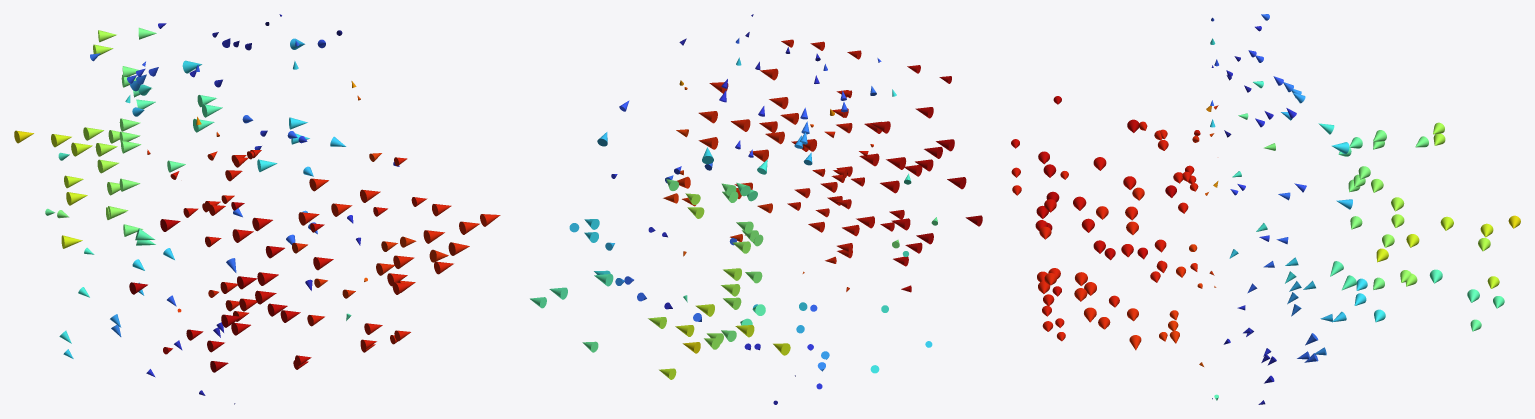
The model's file is LineasCorrienteH2-O2_mh2-5.58_V-0.9.glb.
3 renders of one model, left to right at view 1: azimuth 30°, elevation 25°; view 2: azimuth 150°, elevation 25°; view 3: azimuth 270°, elevation 25°, orthographic. The views are drawn at different scales.
Bounding box in the file's own units: 0.000916 × 0.000964 × 0.00123.
2 materials, 2 textured.
